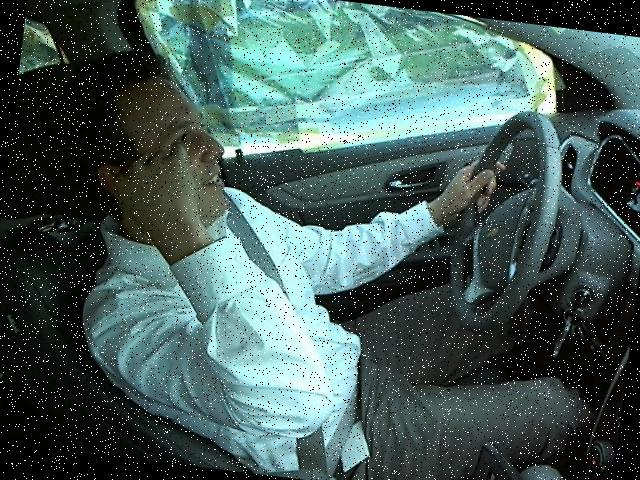c6 - Hair and Makeup: (26, 31, 578, 414)
